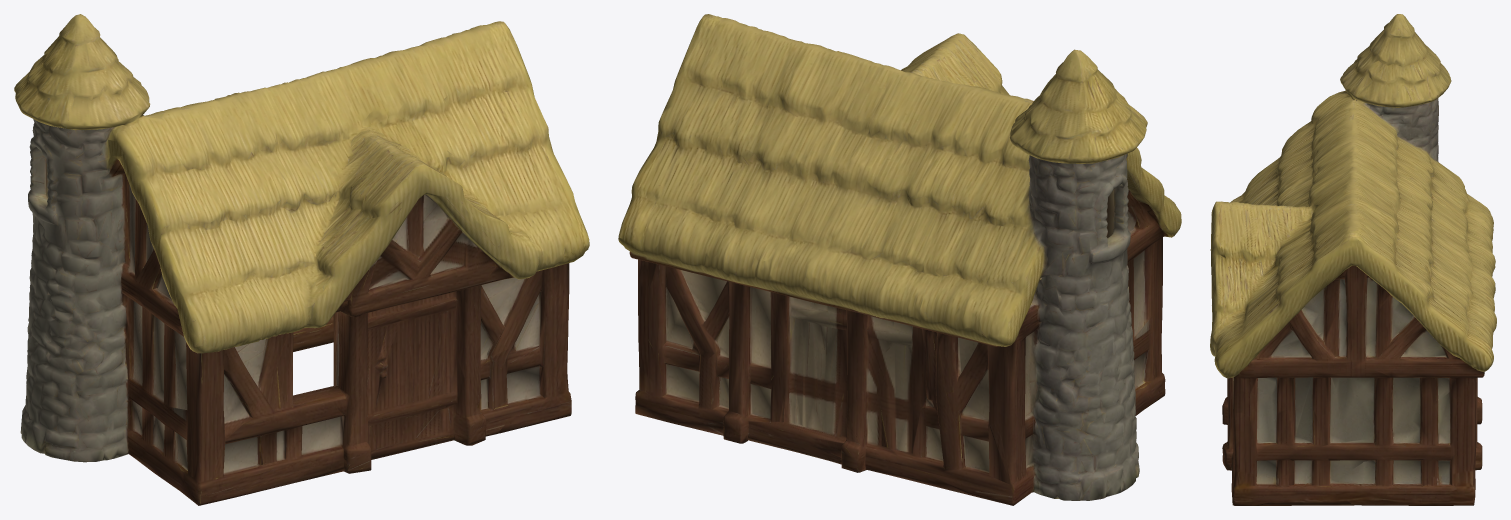
Rendered from house-knights.glb.
The picture shows the model from 3 angles, left to right: view 1: azimuth 30°, elevation 25°; view 2: azimuth 150°, elevation 25°; view 3: azimuth 270°, elevation 25°; orthographic projection. The views are drawn at different scales.
Parts seen in each view (by area): view 1: Mesh_0; view 2: Mesh_0; view 3: Mesh_0.
Part boxes in pixels (x1,y1,x2,y2): Mesh_0: (14,14,589,505); Mesh_0: (618,14,1181,505); Mesh_0: (1210,14,1496,505).
Size of the model in its own units: 1.9 by 1.66 by 1.27.
Materials: 1 (1 with a texture image).
